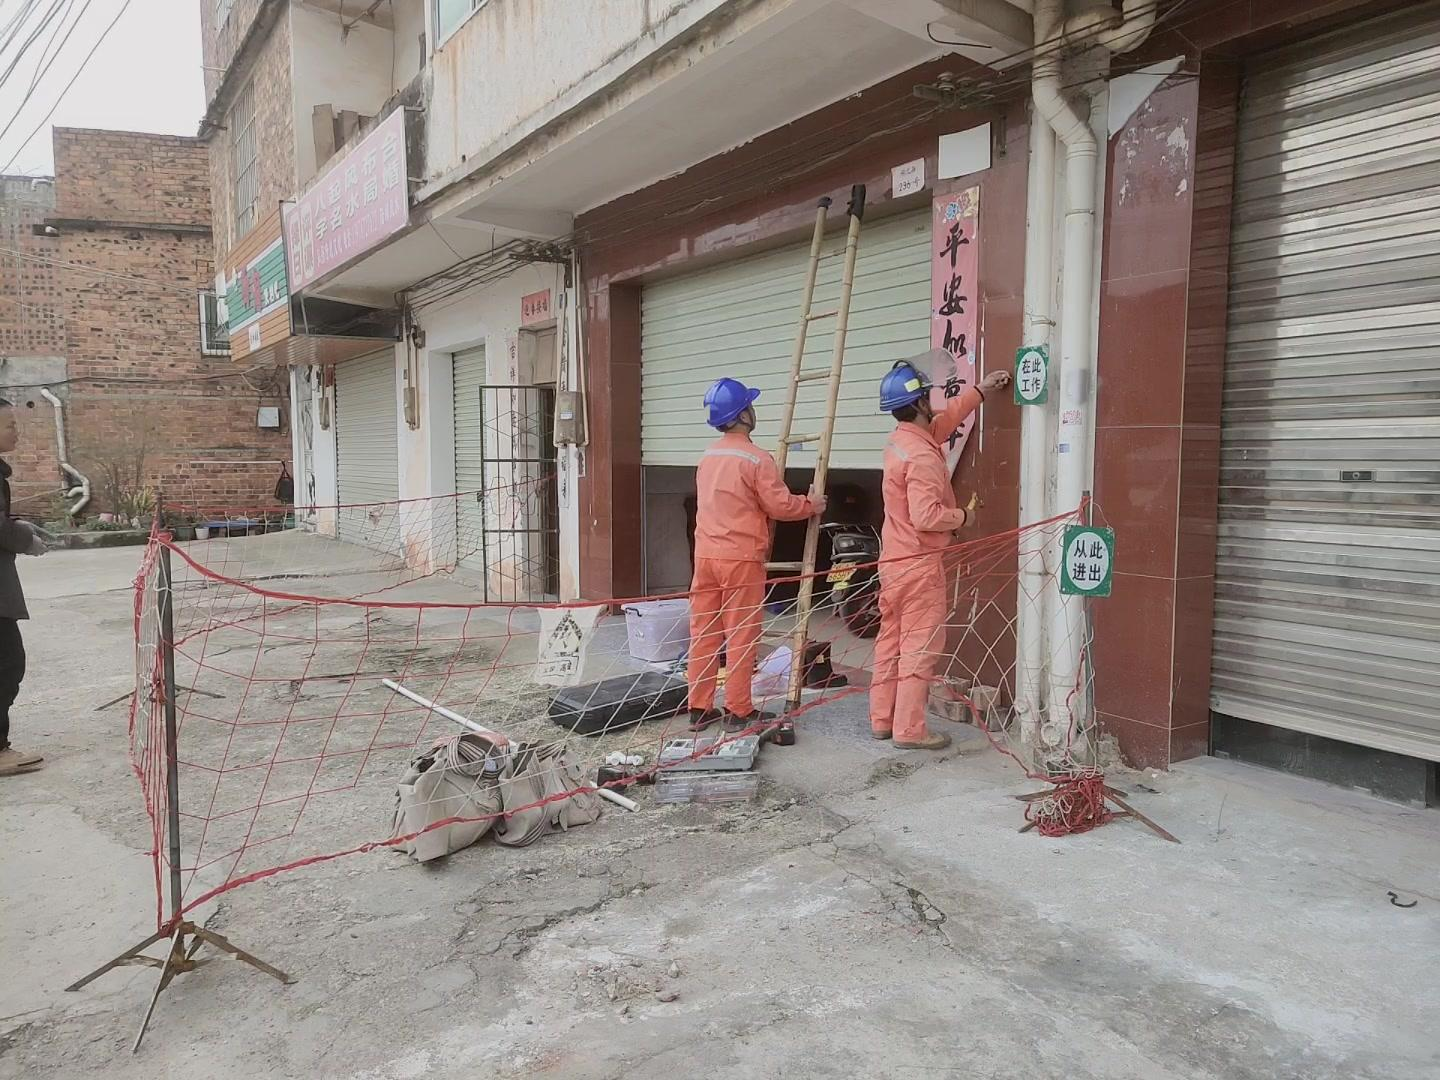halt: (880, 364, 941, 423), (706, 379, 764, 433)
inear: (912, 390, 941, 423), (736, 410, 761, 432)
